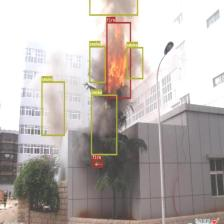fire: (106, 22, 131, 98), (92, 159, 103, 168)
smoke: (91, 94, 117, 155), (41, 81, 65, 136), (88, 0, 137, 15), (89, 46, 106, 82), (126, 46, 144, 79)
